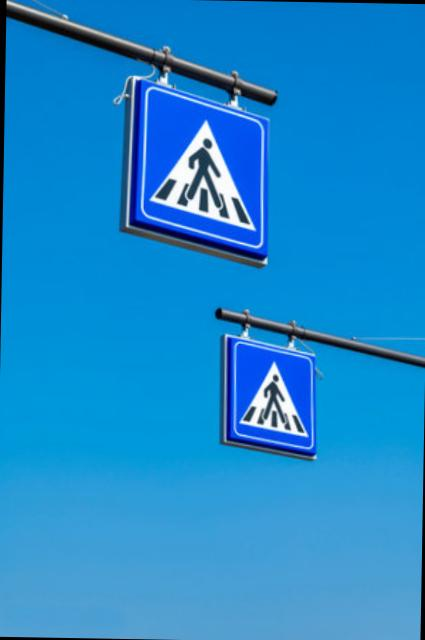crosswalk-sign: (119, 75, 275, 267), (220, 333, 322, 460)
